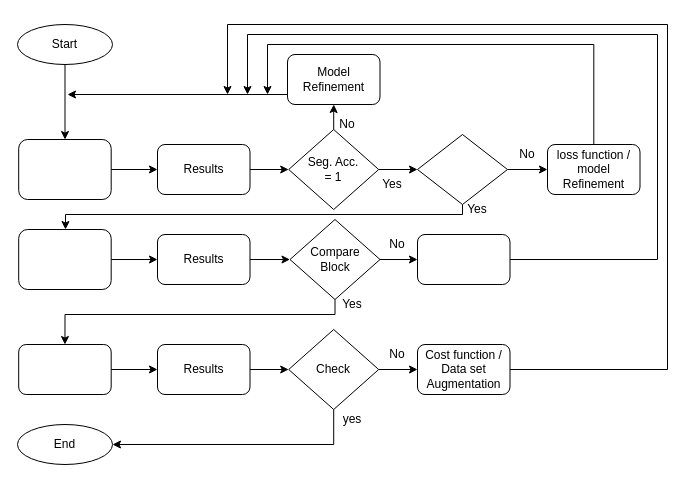
Image size: 693x482. Some labels were removed from this diagram. The centre of each missing label's shape, as x and y in pixels:
"Evaluation (Real-life Images)" belongs at (x=64, y=369).
"Pose Acc = 0" belongs at (x=462, y=169).
"Regularization, drop-outs" belongs at (x=463, y=259).
"Testing (Augmented / real-life data)" belongs at (x=64, y=259).
"Training (Augmented / real-life data)" belongs at (x=64, y=169).
